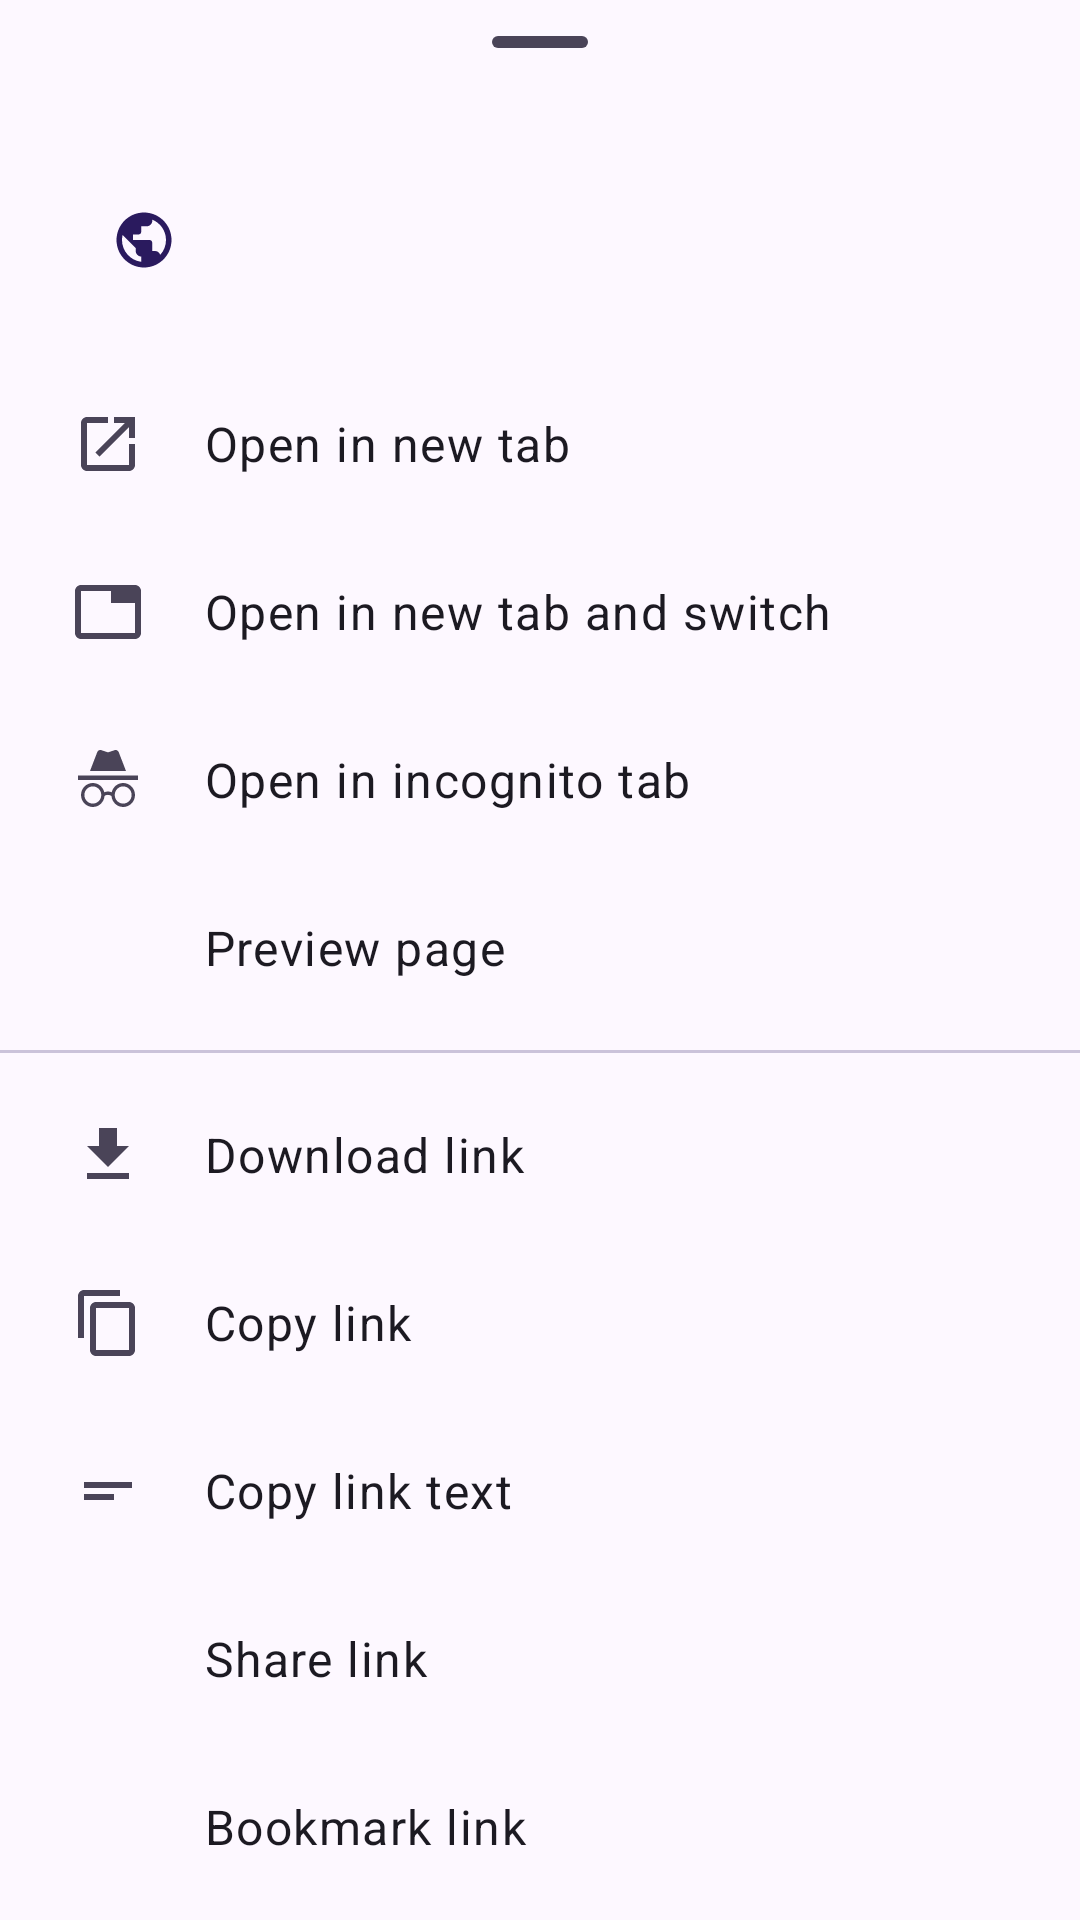

Named icons in this screenshot (1080w x 1920h) and their centers, [x,y]:
public: [144,240]
short text: [108,1491]
